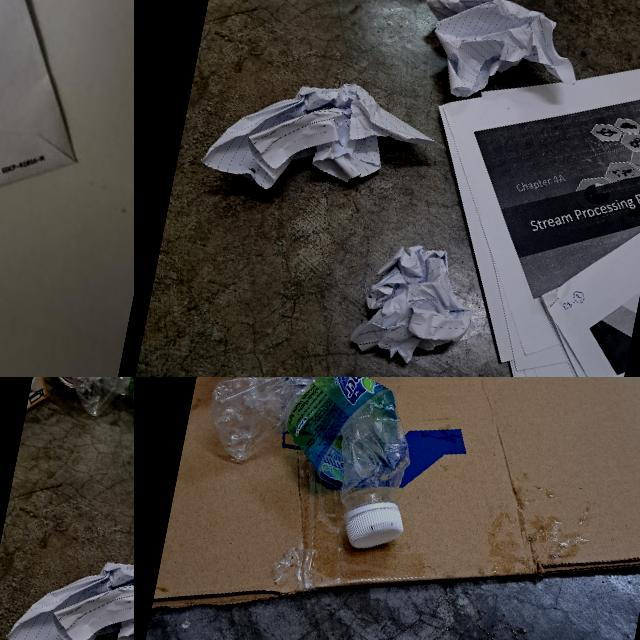caixinha: (25, 377, 53, 418)
garrafa plástica: (196, 377, 426, 521), (65, 377, 134, 457)
papel: (373, 17, 640, 377), (0, 0, 113, 377), (199, 58, 443, 222), (409, 0, 590, 119), (346, 235, 482, 374), (4, 534, 134, 640)
papelão: (150, 377, 640, 640)
tampa plástica: (341, 501, 406, 557)
